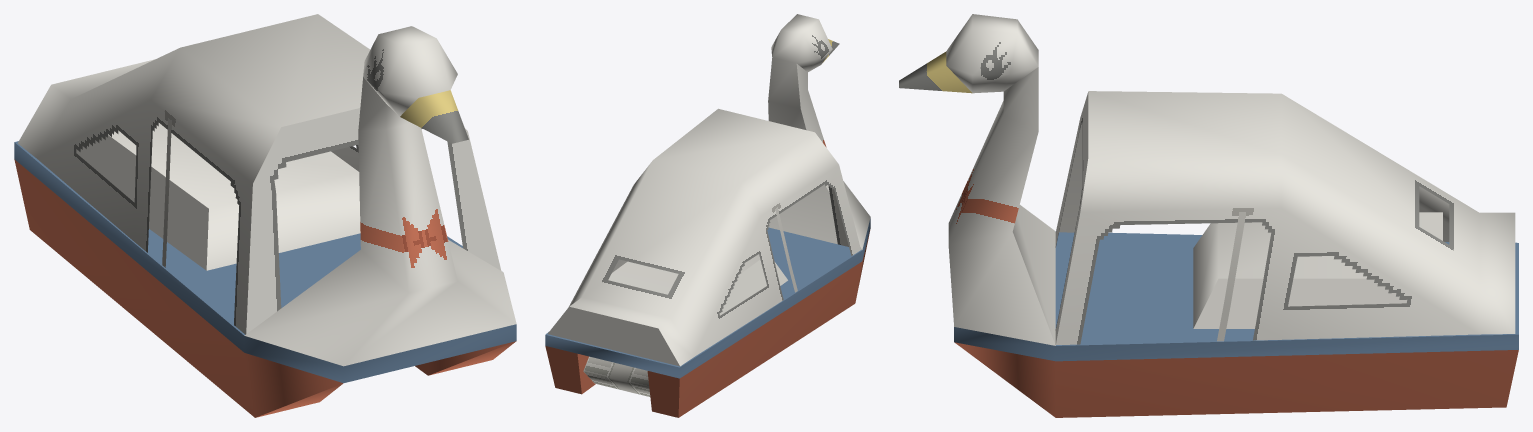
The model's file is 00b0_Swan_Boat.glb.
3 views of the same model, side by side, from view 1: azimuth 30°, elevation 25°; view 2: azimuth 150°, elevation 25°; view 3: azimuth 270°, elevation 25° (orthographic). The views are drawn at different scales.
Visible parts, largest first — view 1: part_0; view 2: part_0; view 3: part_0.
Boxes of the visible parts, x1,y1,x2,y2 form: part_0: (14, 14, 516, 417); part_0: (545, 14, 870, 417); part_0: (899, 14, 1518, 417).
Size of the model in its own units: 1.5 by 2.11 by 3.44.
Materials: 1 (1 with a texture image).
